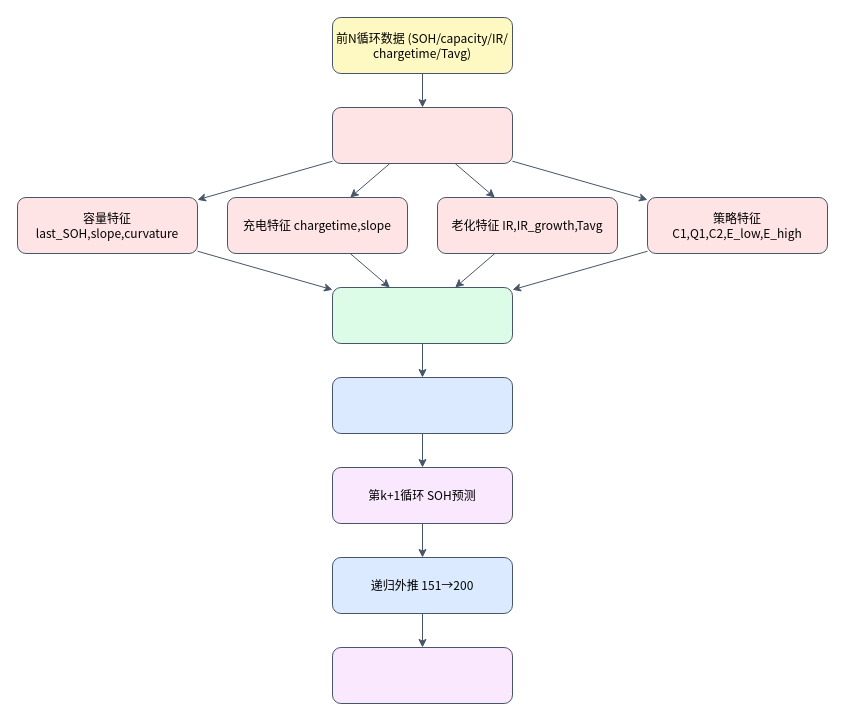
This 845x721 diagram has some shape labels left out. The centre of each missing label's shape, as x and y in pixels:
合并外推 →80%寿命: point 422,675
标准化(训练段fit): point 422,315
特征工程模块: point 422,135
随机森林回归 (递归多步): point 422,405
